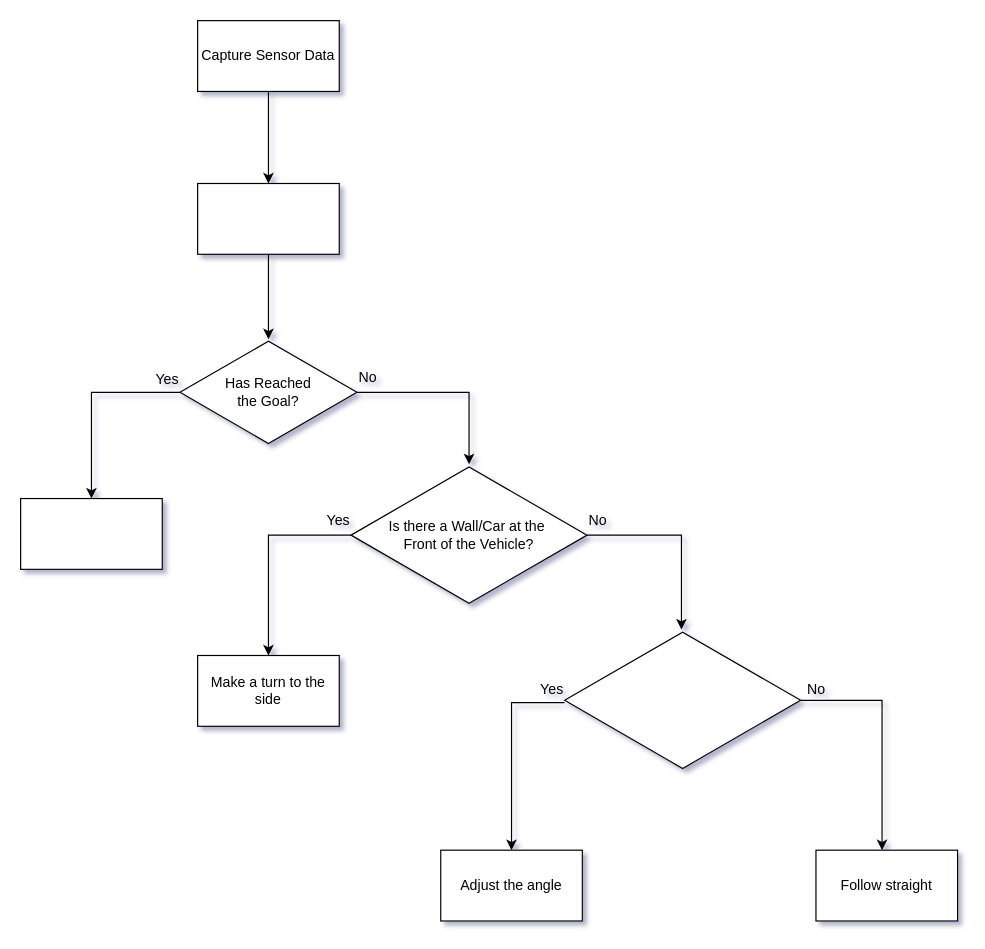
Image size: 985x949. Some labels were removed from this diagram. Here are the shapes that lost their labels. From the top down, the box of each, then its label:
(196, 182, 339, 254): Process Sensor Data
(19, 497, 162, 569): Stop the Vehicle
(563, 628, 801, 771): Are there any plants/stakes near the Vehicle?
